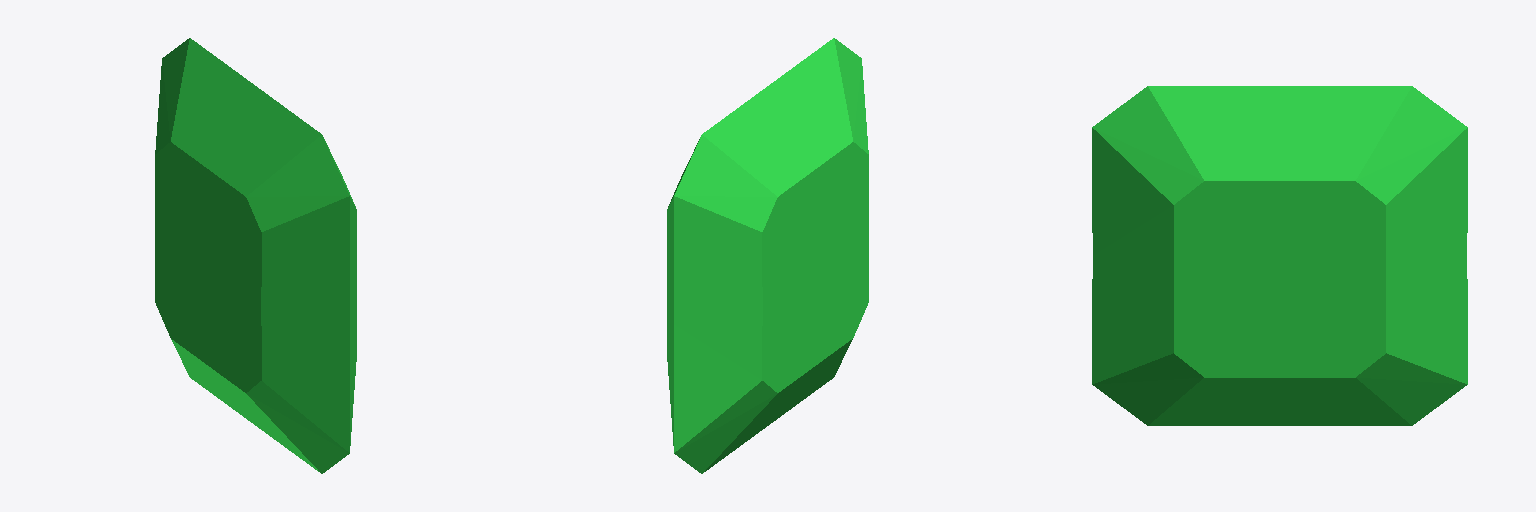
File: Emerald.obj
3 renders of one model, left to right at view 1: azimuth 30°, elevation 25°; view 2: azimuth 150°, elevation 25°; view 3: azimuth 270°, elevation 25°, orthographic.
Visible parts, largest first — view 1: Emerald_Plane; view 2: Emerald_Plane; view 3: Emerald_Plane.
Part boxes in pixels (bbox=[...]): Emerald_Plane: bbox=[155, 38, 356, 473]; Emerald_Plane: bbox=[667, 38, 868, 473]; Emerald_Plane: bbox=[1092, 86, 1467, 425].
Size of the model in its own units: 0.2469 by 0.8418 by 0.8432.